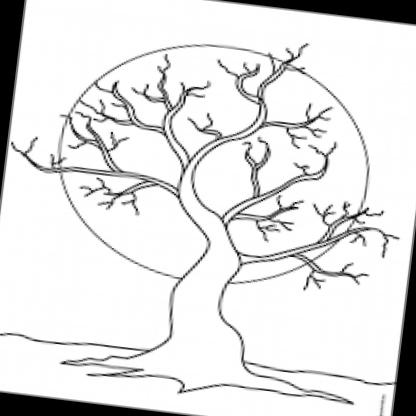branch_sharp: (0, 9, 416, 299)
root_upside: (60, 329, 360, 416)
trunk_reflex: (147, 257, 266, 357)
